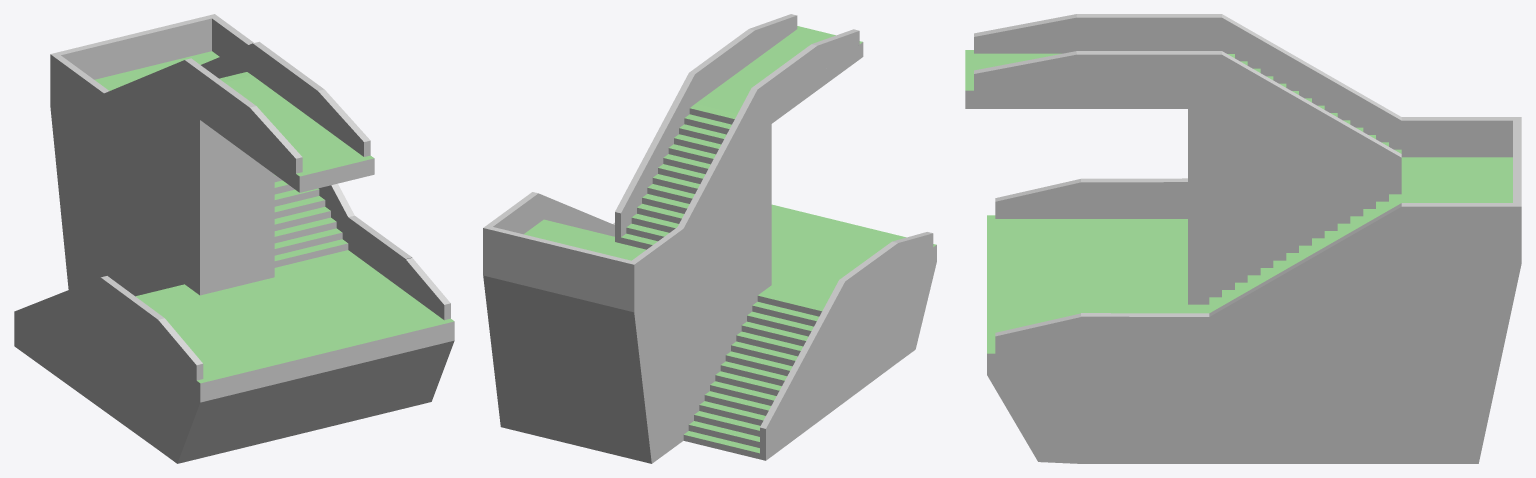
The model's file is DivePlatform.fbx.
The picture shows the model from 3 angles, left to right: view 1: azimuth 30°, elevation 25°; view 2: azimuth 150°, elevation 25°; view 3: azimuth 270°, elevation 25°; orthographic projection. The views are drawn at different scales.
Visible parts, largest first — view 1: DivePlatform; view 2: DivePlatform; view 3: DivePlatform.
Part boxes in pixels (<box>): DivePlatform: <box>14,14,454,463</box>; DivePlatform: <box>483,14,936,463</box>; DivePlatform: <box>965,14,1521,463</box>.
Bounding box in the file's own units: 7.65 × 9.3 × 13.
